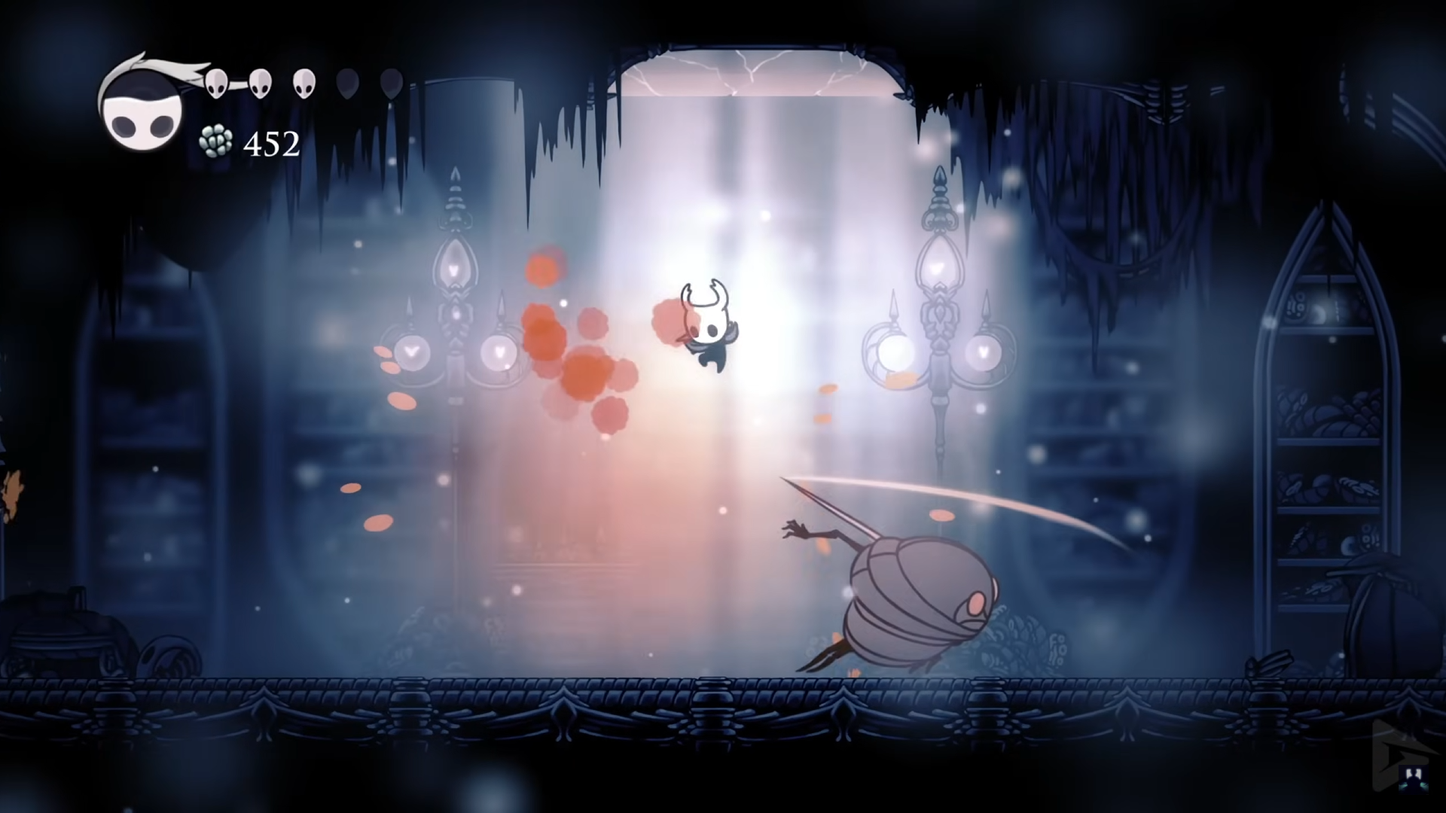HK: (661, 274, 745, 376)
